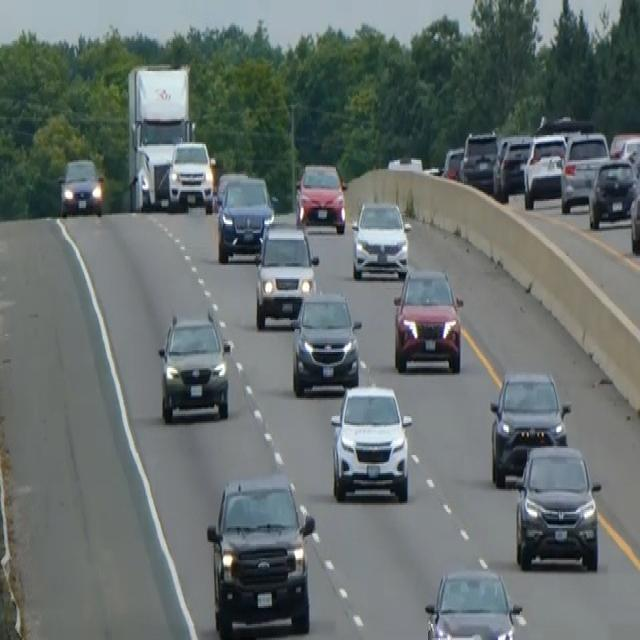car: (511, 441, 601, 572), (488, 366, 571, 487), (156, 308, 233, 423), (289, 288, 362, 396), (392, 265, 464, 373), (423, 566, 523, 638), (253, 224, 319, 329), (216, 175, 274, 262), (351, 197, 410, 279), (559, 130, 610, 213), (294, 160, 347, 233), (587, 154, 637, 228), (522, 130, 566, 208), (167, 137, 214, 210), (58, 155, 104, 217), (493, 133, 532, 199), (460, 128, 498, 192), (213, 167, 248, 210), (609, 130, 639, 169), (441, 144, 464, 181), (629, 176, 639, 256), (387, 153, 423, 172)
jeep: (205, 471, 316, 638), (328, 379, 414, 505)
lorry: (125, 60, 194, 212)
